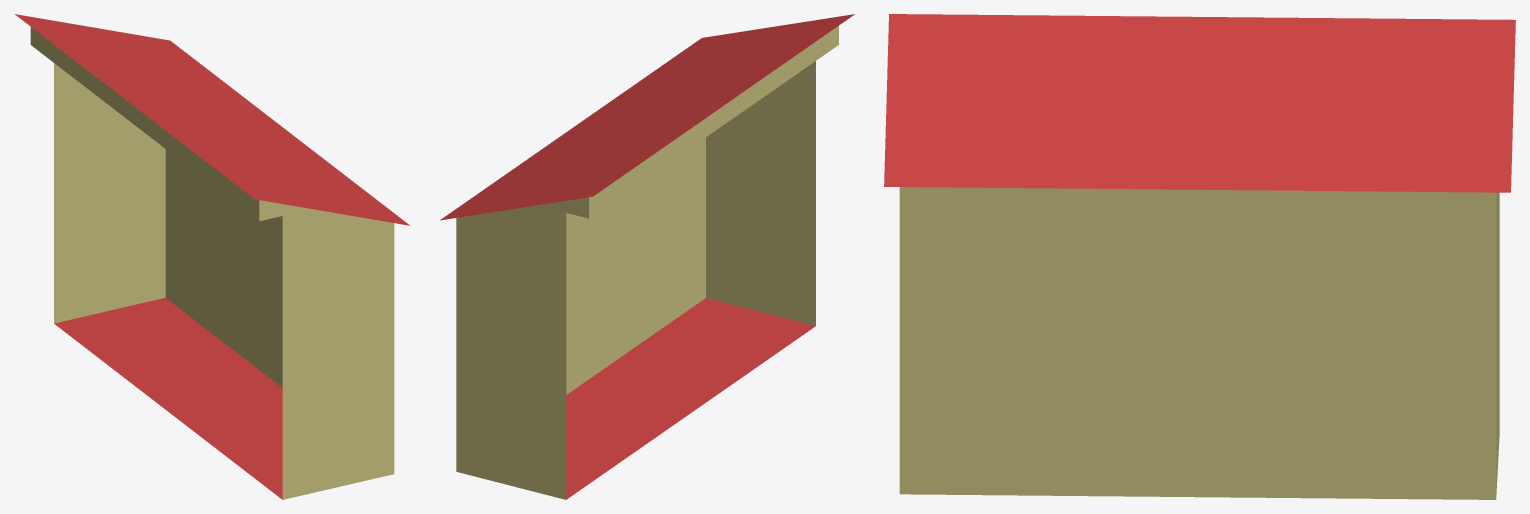
3 renders of one model, left to right at view 1: azimuth 30°, elevation 25°; view 2: azimuth 150°, elevation 25°; view 3: azimuth 270°, elevation 25°, orthographic. The views are drawn at different scales.
Bounding box in the file's own units: 3.93 × 10.47 × 7.18.
